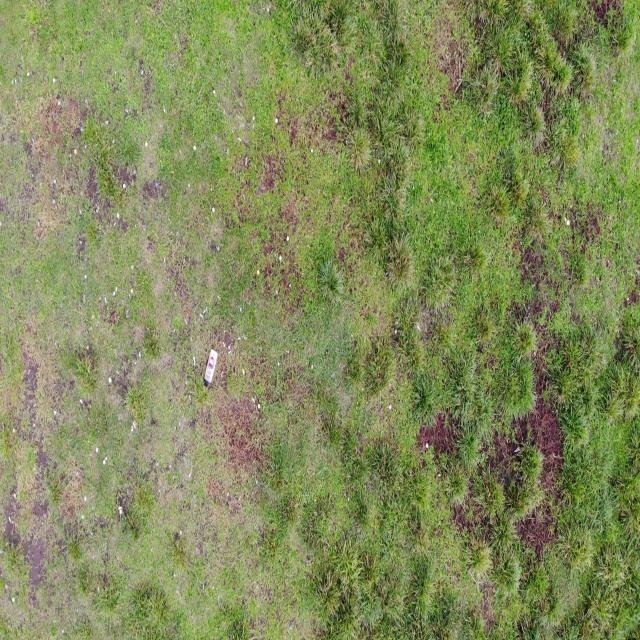rubbish: (203, 345, 218, 388)
